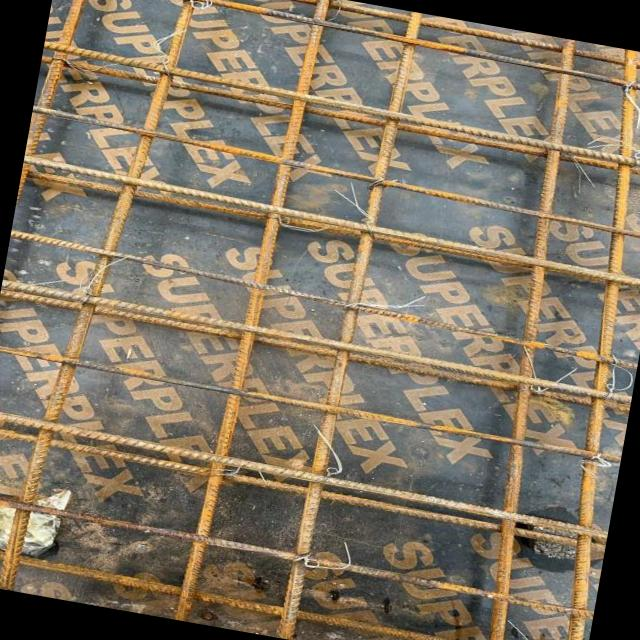ribbed bar: (0, 0, 204, 604), (170, 0, 333, 626), (450, 37, 614, 640), (273, 6, 424, 640), (5, 228, 640, 369), (28, 103, 640, 242), (20, 154, 640, 287), (0, 408, 608, 541), (40, 40, 640, 172), (0, 279, 631, 404), (0, 424, 606, 553), (0, 290, 629, 413), (0, 490, 594, 620), (511, 48, 640, 640), (39, 54, 640, 181), (0, 343, 620, 464), (27, 170, 640, 292), (53, 0, 640, 101), (0, 541, 585, 640), (57, 0, 640, 80), (25, 0, 102, 160)
